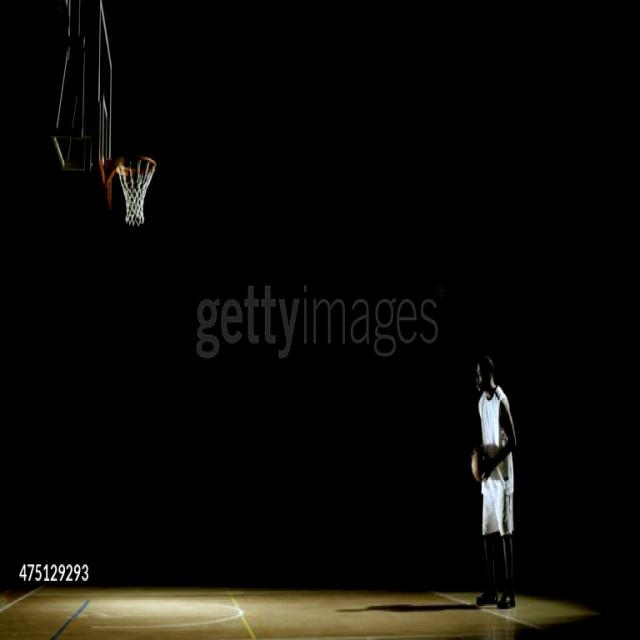ball: (471, 444, 492, 483)
